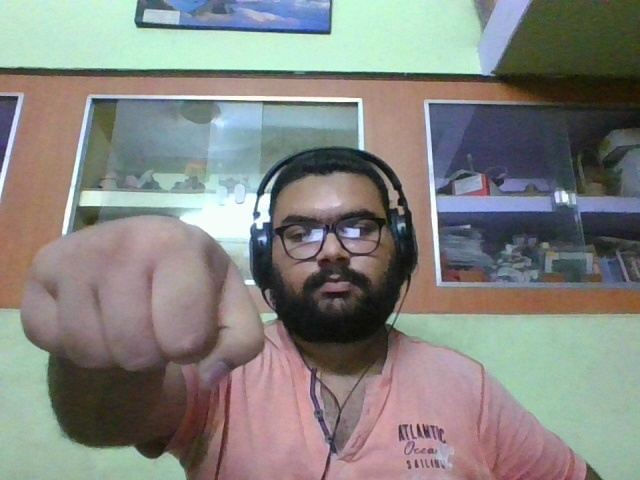yes: (18, 213, 271, 400)
